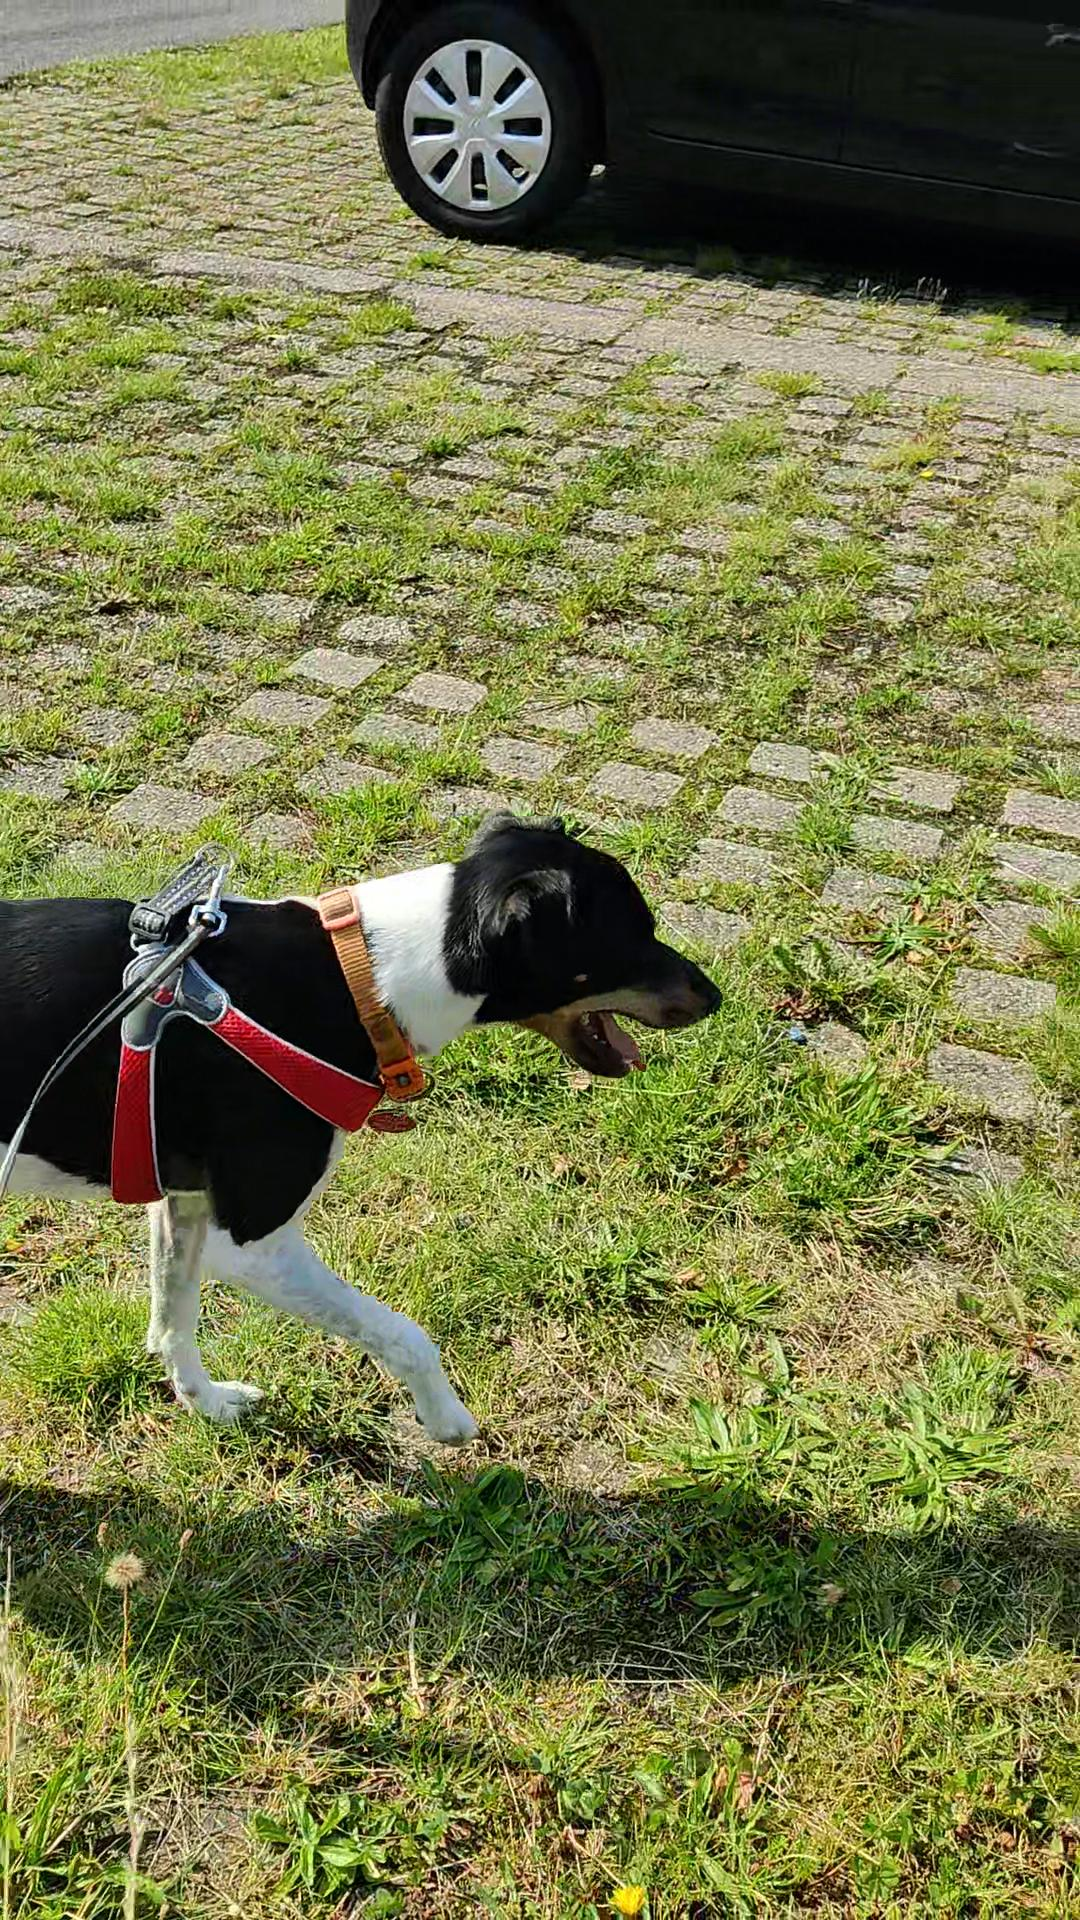Dog: (0, 779, 748, 1466)
